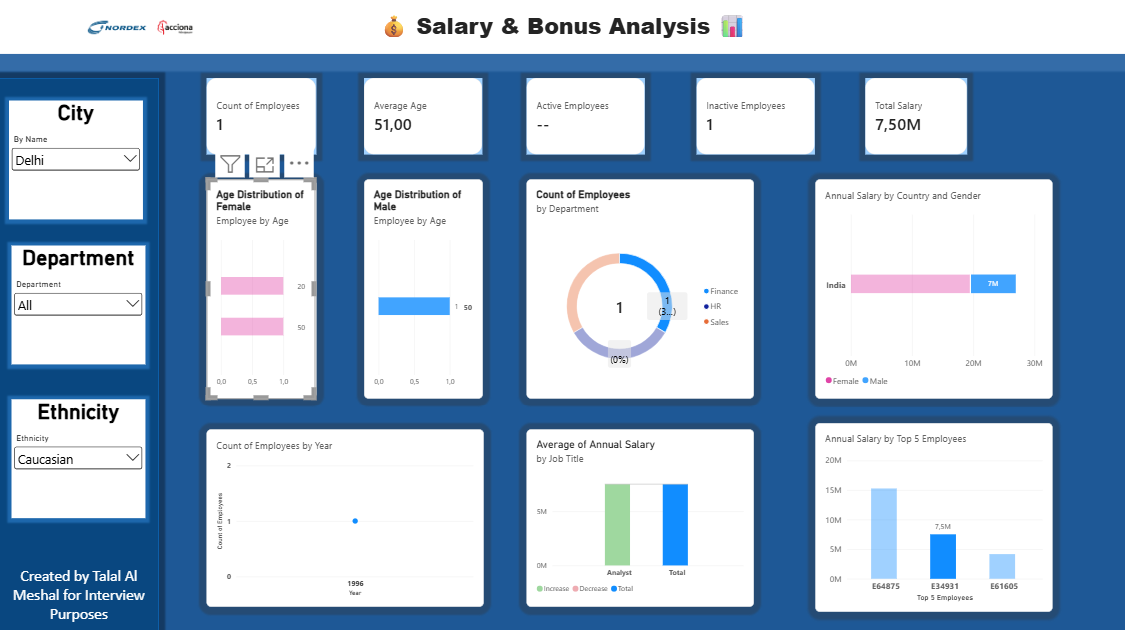

This screenshot's page, from the dashboard's own definition file:
{"tool":"powerbi","page":{"name":"Page 1","canvas":[1920,1080],"ordinal":0},"visuals":[{"type":"textbox","box":[0,0,1920.6,95.2],"z":0},{"type":"image","box":[63.5,17.5,360.3,65.1],"z":1000},{"type":"cardVisual","fields":{"Data":["CountNonNull(employee_data.EEID)"]},"box":[352.2,137,187,130.4],"z":2000},{"type":"cardVisual","fields":{"Data":["Avg(employee_data.Age)"]},"box":[621.7,137,201.6,130.2],"z":3000},{"type":"cardVisual","fields":{"Data":["CountNonNull(employee_data.Employee Status)"]},"box":[897.8,137,201.6,130.2],"z":4000},{"type":"cardVisual","fields":{"Data":["CountNonNull(employee_data.Employee Status)"]},"box":[1187,137,201.6,130.2],"z":5000},{"type":"cardVisual","fields":{"Data":["Sum(employee_data.Annual Salary)"]},"box":[1473.9,137,173.9,130.4],"z":6000},{"type":"barChart","title":"Age Distribution of Female","fields":{"Y":["CountNonNull(employee_data.EEID)"],"Category":["employee_data.Age (bins)"]},"box":[352.2,308.7,187,373.9],"z":7000},{"type":"barChart","title":"Age Distribution of Male","fields":{"Y":["CountNonNull(employee_data.EEID)"],"Category":["employee_data.Age (bins)"]},"box":[621.7,308.7,202.2,373.9],"z":8000},{"type":"donutChart","fields":{"Category":["employee_data.Department"],"Y":["CountNonNull(employee_data.EEID)"]},"box":[897.8,308.7,387,373.9],"z":9000},{"type":"shape","box":[0,137,271.7,943.5],"z":10000},{"type":"textbox","title":"Created by Talal Al Meshal for Interview Purposes","box":[0,966,271.7,113],"z":11000},{"type":"barChart","fields":{"Category":["employee_data.Country"],"Y":["Sum(employee_data.Annual Salary)"],"Series":["employee_data.Gender"]},"box":[1389.1,308.7,404.3,373.9],"z":12000},{"type":"lineChart","fields":{"Category":["employee_data.Hire Date.Variation.Date Hierarchy.Year","employee_data.Hire Date.Variation.Date Hierarchy.Quarter","employee_data.Hire Date.Variation.Date Hierarchy.Month","employee_data.Hire Date.Variation.Date Hierarchy.Day"],"Y":["CountNonNull(employee_data.EEID)"]},"box":[352.2,734.8,471.7,302.2],"z":13000},{"type":"waterfallChart","fields":{"Category":["employee_data.Job Title"],"Y":["Avg(employee_data.Annual Salary)"]},"box":[898,735,387,302],"z":14000},{"type":"clusteredColumnChart","fields":{"Y":["Sum(employee_data.Annual Salary)"],"Category":["employee_data.EEID"]},"box":[1389.4,723.4,404.3,321.3],"z":15000},{"type":"slicer","title":"City","fields":{"Values":["employee_data.City"]},"box":[17,174.5,227.7,202.1],"z":16000},{"type":"slicer","title":"Department","fields":{"Values":["employee_data.Department"]},"box":[21.3,421.3,227.7,202.1],"z":16001},{"type":"slicer","title":"Ethnicity","fields":{"Values":["employee_data.Ethnicity"]},"box":[21.3,683,227.7,202.1],"z":16002}]}

Visuals, with their boxes in screenshot pixels (x1, y1, x2, y2), scaled from the page's 1920x1080 canvas onto the 1125x630 screenshot:
textbox: bbox=[0, 0, 1124, 56]
image: bbox=[37, 10, 248, 48]
cardVisual - CountNonNull(employee_data.EEID): bbox=[206, 80, 316, 156]
cardVisual - Avg(employee_data.Age): bbox=[364, 80, 482, 156]
cardVisual - CountNonNull(employee_data.Employee Status): bbox=[526, 80, 644, 156]
cardVisual - CountNonNull(employee_data.Employee Status): bbox=[696, 80, 814, 156]
cardVisual - Sum(employee_data.Annual Salary): bbox=[864, 80, 966, 156]
"Age Distribution of Female" barChart: bbox=[206, 180, 316, 398]
"Age Distribution of Male" barChart: bbox=[364, 180, 483, 398]
donutChart - employee_data.Department x CountNonNull(employee_data.EEID): bbox=[526, 180, 753, 398]
shape: bbox=[0, 80, 159, 629]
"Created by Talal Al Meshal for Interview Purposes" textbox: bbox=[0, 564, 159, 629]
barChart - employee_data.Country x Sum(employee_data.Annual Salary): bbox=[814, 180, 1051, 398]
lineChart - employee_data.Hire Date.Variation.Date Hierarchy.Year x employee_data.Hire Date.Variation.Date Hierarchy.Quarter: bbox=[206, 429, 483, 605]
waterfallChart - employee_data.Job Title x Avg(employee_data.Annual Salary): bbox=[526, 429, 753, 605]
clusteredColumnChart - Sum(employee_data.Annual Salary) x employee_data.EEID: bbox=[814, 422, 1051, 609]
"City" slicer: bbox=[10, 102, 143, 220]
"Department" slicer: bbox=[12, 246, 146, 364]
"Ethnicity" slicer: bbox=[12, 398, 146, 516]
